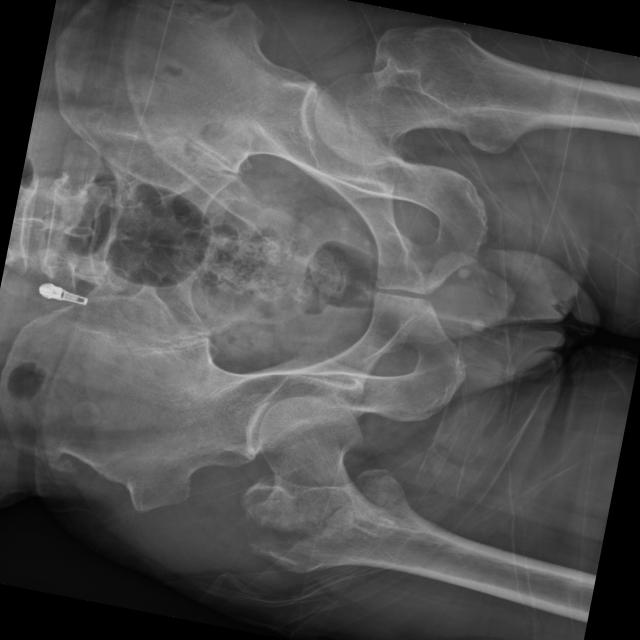normal-left: (313, 24, 640, 166)
right-intertrochanteric: (245, 470, 490, 590), (240, 393, 388, 534)
